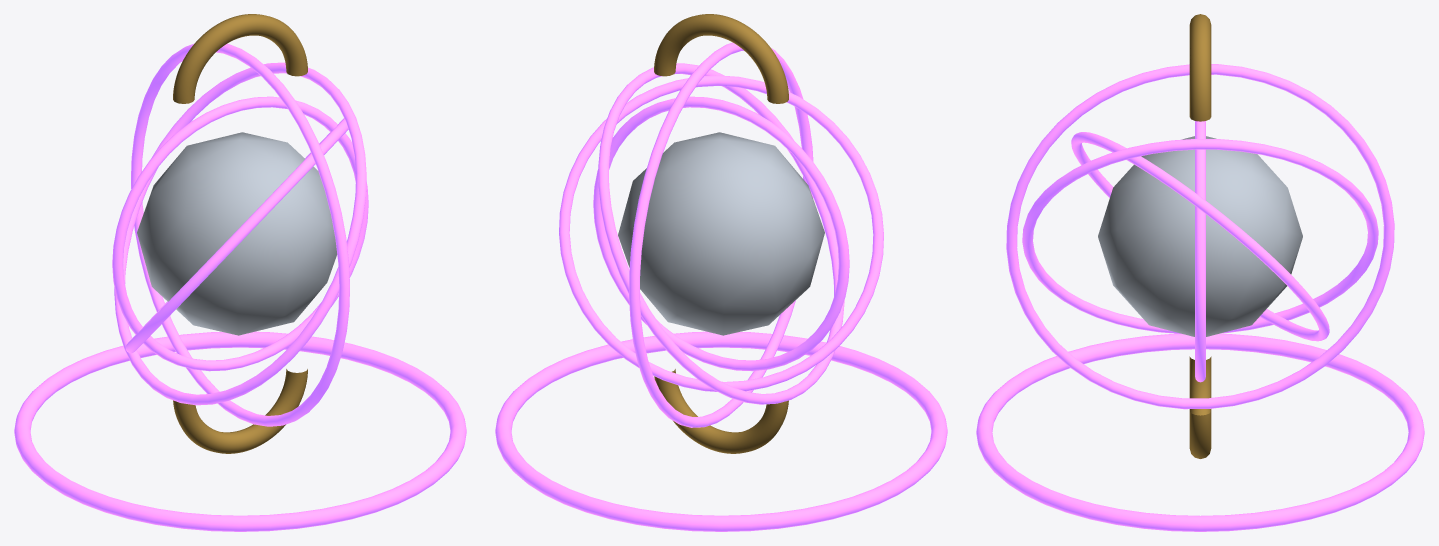
File: pickup_primecore.glb
3 renders of one model, left to right at view 1: azimuth 30°, elevation 25°; view 2: azimuth 150°, elevation 25°; view 3: azimuth 270°, elevation 25°, orthographic.
Parts seen in each view (by area): view 1: prime_cage, prime_ground, prime_ring3, prime_ring2, prime_ring0, prime_yoke0.3, prime_ring1, prime_yoke-0.3; view 2: prime_cage, prime_ground, prime_ring1, prime_ring2, prime_ring0, prime_ring3, prime_yoke0.3, prime_yoke-0.3; view 3: prime_cage, prime_ground, prime_ring3, prime_ring2, prime_ring1, prime_ring0, prime_yoke0.3, prime_yoke-0.3.
Boxes of the visible parts, box(x1,y1,x2,y2) form: prime_cage: box(137, 132, 337, 335); prime_ground: box(14, 331, 466, 531); prime_ring3: box(131, 43, 349, 426); prime_ring2: box(114, 62, 366, 405); prime_ring0: box(112, 96, 368, 371); prime_yoke0.3: box(173, 14, 307, 103); prime_ring1: box(125, 118, 348, 353); prime_yoke-0.3: box(173, 369, 307, 453); prime_cage: box(618, 132, 824, 335); prime_ground: box(495, 331, 947, 531); prime_ring1: box(559, 75, 883, 391); prime_ring2: box(598, 63, 844, 404); prime_ring0: box(593, 96, 849, 371); prime_ring3: box(629, 42, 813, 427); prime_yoke0.3: box(654, 14, 788, 103); prime_yoke-0.3: box(654, 369, 788, 453); prime_cage: box(1098, 136, 1302, 336); prime_ground: box(976, 333, 1424, 531); prime_ring3: box(1006, 64, 1394, 409); prime_ring2: box(1022, 139, 1378, 334); prime_ring1: box(1071, 132, 1329, 341); prime_ring0: box(1195, 121, 1205, 382); prime_yoke0.3: box(1189, 14, 1211, 121); prime_yoke-0.3: box(1189, 356, 1211, 458).
Size of the model in its own units: 0.83 by 0.88 by 0.83.
